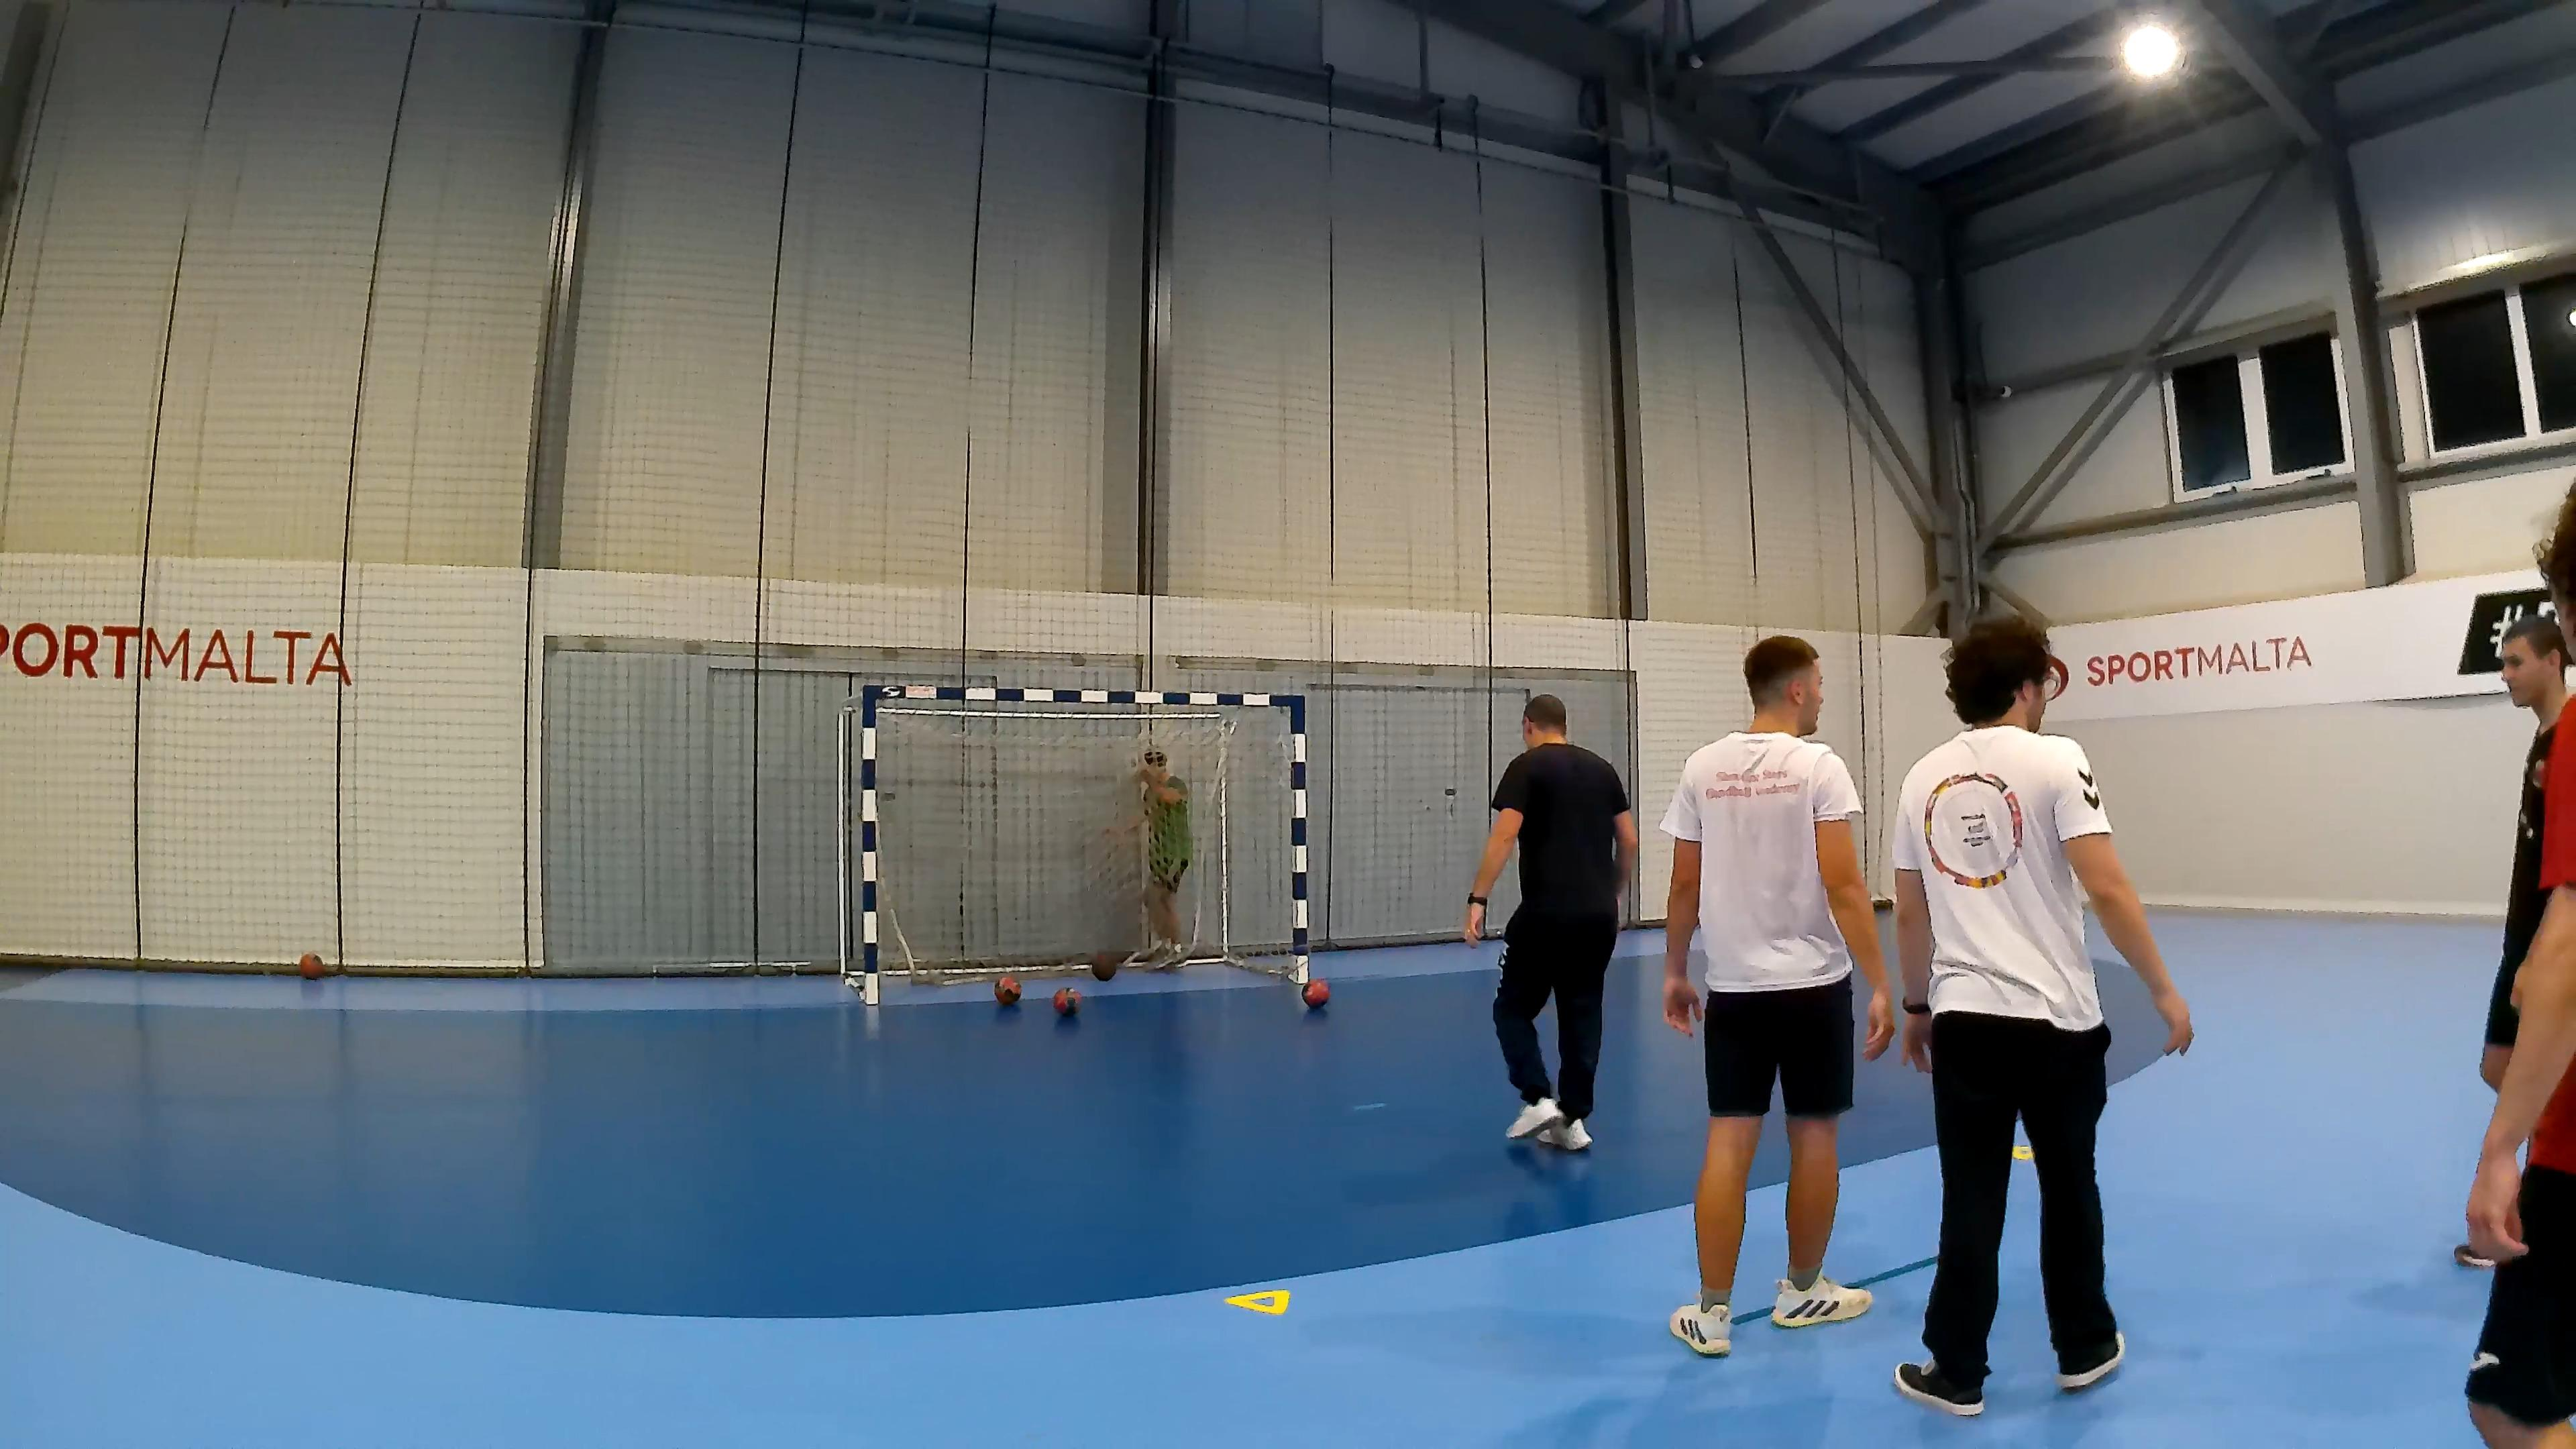handball: (1302, 978, 1330, 1007), (1051, 985, 1079, 1014), (994, 975, 1021, 1005), (299, 952, 324, 977)
